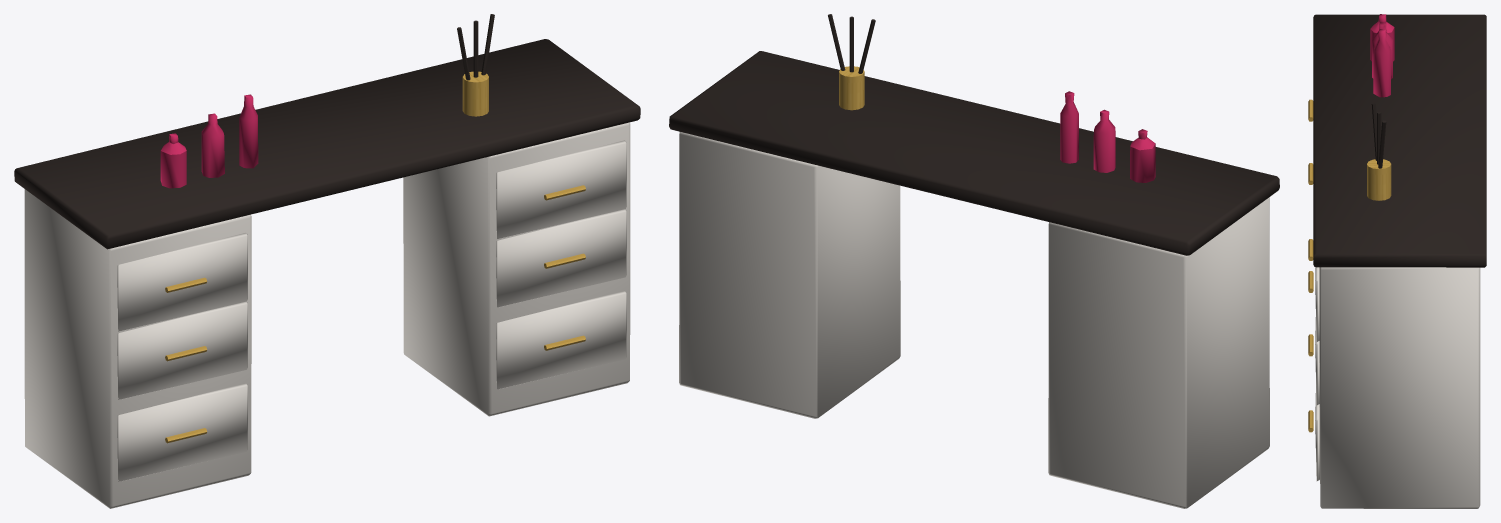
File: penteadeira-leve.glb
3 renders of one model, left to right at view 1: azimuth 30°, elevation 25°; view 2: azimuth 150°, elevation 25°; view 3: azimuth 270°, elevation 25°, orthographic. The views are drawn at different scales.
Parts seen in each view (by area): view 1: tampo, gaveteiro, gaveteiro.001, frente-gaveta.003, frente-gaveta.005, frente-gaveta.004, frente-gaveta.002, frente-gaveta, frente-gaveta.001, frasco.001, frasco.002, frasco (+1 smaller); view 2: gaveteiro, gaveteiro.001, tampo, frasco.001, frasco.002, frasco, copo-pinceis; view 3: tampo, gaveteiro.001, frasco.002, copo-pinceis, frasco, frente-gaveta.003, frente-gaveta.005, frasco.001, frente-gaveta.004, pincel.002.
Part boxes in pixels (x1=…): tampo: x1=14, y1=39, x2=640, y2=249; gaveteiro: x1=24, y1=189, x2=251, y2=508; gaveteiro.001: x1=403, y1=122, x2=630, y2=416; frente-gaveta.003: x1=496, y1=290, x2=626, y2=389; frente-gaveta.005: x1=496, y1=140, x2=626, y2=239; frente-gaveta.004: x1=496, y1=209, x2=626, y2=307; frente-gaveta.002: x1=117, y1=233, x2=247, y2=331; frente-gaveta: x1=117, y1=383, x2=247, y2=481; frente-gaveta.001: x1=117, y1=301, x2=247, y2=399; frasco.001: x1=201, y1=113, x2=224, y2=177; frasco.002: x1=239, y1=94, x2=258, y2=168; frasco: x1=160, y1=133, x2=186, y2=188; gaveteiro: x1=1048, y1=197, x2=1269, y2=508; gaveteiro.001: x1=679, y1=132, x2=900, y2=418; tampo: x1=669, y1=51, x2=1279, y2=255; frasco.001: x1=1093, y1=109, x2=1115, y2=172; frasco.002: x1=1060, y1=91, x2=1078, y2=163; frasco: x1=1130, y1=129, x2=1155, y2=182; copo-pinceis: x1=839, y1=66, x2=864, y2=110; tampo: x1=1313, y1=14, x2=1486, y2=267; gaveteiro.001: x1=1319, y1=267, x2=1480, y2=508; frasco.002: x1=1373, y1=29, x2=1391, y2=97; copo-pinceis: x1=1367, y1=159, x2=1391, y2=200; frasco: x1=1370, y1=14, x2=1394, y2=61; frente-gaveta.003: x1=1315, y1=386, x2=1319, y2=481; frente-gaveta.005: x1=1315, y1=267, x2=1319, y2=341; frasco.001: x1=1372, y1=22, x2=1392, y2=79; frente-gaveta.004: x1=1315, y1=317, x2=1319, y2=405; pincel.002: x1=1378, y1=120, x2=1386, y2=168.
Bounding box in the file's own units: 1.64 × 1.08 × 0.5114.
Materials: 4 (1 with a texture image).
